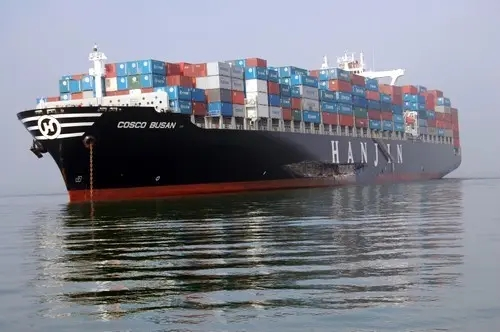Cargoship: (11, 41, 466, 197)
